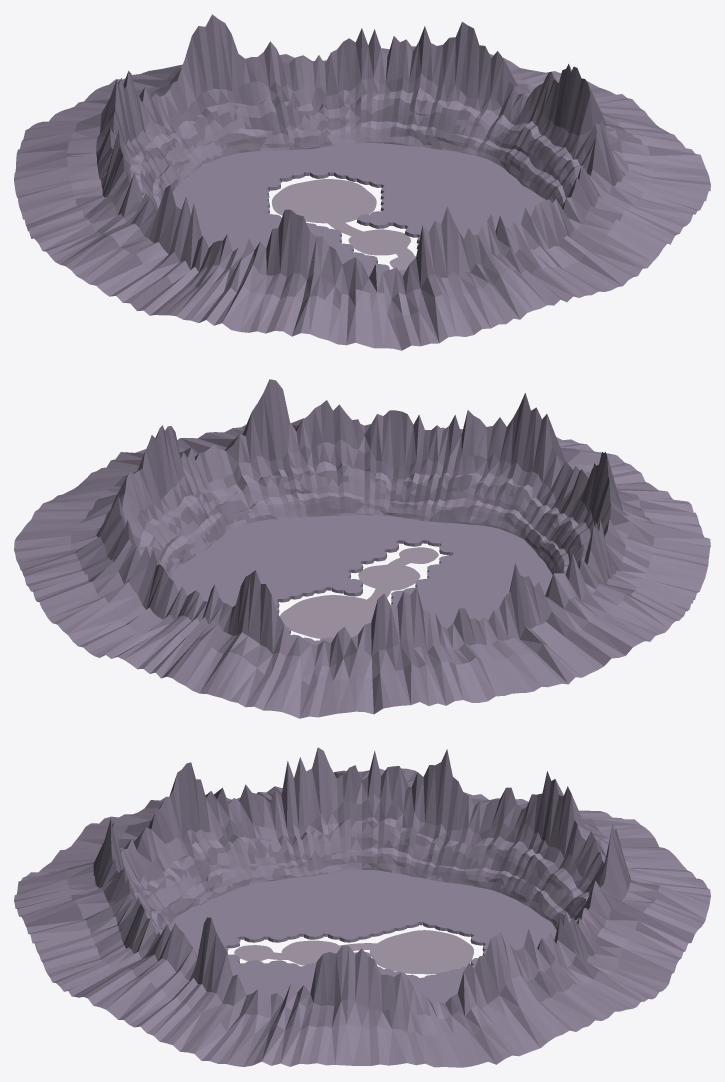
The model's file is map_dg_catacumbas_trono.glb.
The picture shows the model from 3 angles, top to bottom: view 1: azimuth 30°, elevation 25°; view 2: azimuth 150°, elevation 25°; view 3: azimuth 270°, elevation 25°; orthographic projection.
Visible parts, largest first — view 1: Z_dg_catacumbas_trono_penhascos, Z_dg_catacumbas_trono_morro_parede_0_0, Z_dg_catacumbas_trono_praca_trono, Z_dg_catacumbas_trono_praca_galeria; view 2: Z_dg_catacumbas_trono_penhascos, Z_dg_catacumbas_trono_morro_parede_0_0, Z_dg_catacumbas_trono_praca_trono, Z_dg_catacumbas_trono_praca_galeria, Z_dg_catacumbas_trono_praca_chegada; view 3: Z_dg_catacumbas_trono_penhascos, Z_dg_catacumbas_trono_morro_parede_0_0, Z_dg_catacumbas_trono_praca_trono, Z_dg_catacumbas_trono_praca_galeria, Z_dg_catacumbas_trono_praca_chegada.
Part boxes in pixels (x1,y1,x2,y2): Z_dg_catacumbas_trono_penhascos: (14, 14, 710, 350); Z_dg_catacumbas_trono_morro_parede_0_0: (172, 143, 545, 277); Z_dg_catacumbas_trono_praca_trono: (271, 179, 376, 223); Z_dg_catacumbas_trono_praca_galeria: (348, 229, 410, 255); Z_dg_catacumbas_trono_penhascos: (14, 379, 710, 718); Z_dg_catacumbas_trono_morro_parede_0_0: (171, 515, 552, 644); Z_dg_catacumbas_trono_praca_trono: (280, 595, 375, 638); Z_dg_catacumbas_trono_praca_galeria: (358, 564, 420, 590); Z_dg_catacumbas_trono_praca_chegada: (399, 547, 438, 563); Z_dg_catacumbas_trono_penhascos: (14, 747, 710, 1067); Z_dg_catacumbas_trono_morro_parede_0_0: (168, 870, 556, 1004); Z_dg_catacumbas_trono_praca_trono: (369, 930, 473, 974); Z_dg_catacumbas_trono_praca_galeria: (281, 940, 340, 965); Z_dg_catacumbas_trono_praca_chegada: (234, 945, 273, 960).
Bounding box in the file's own units: 281 × 54.53 × 285.
